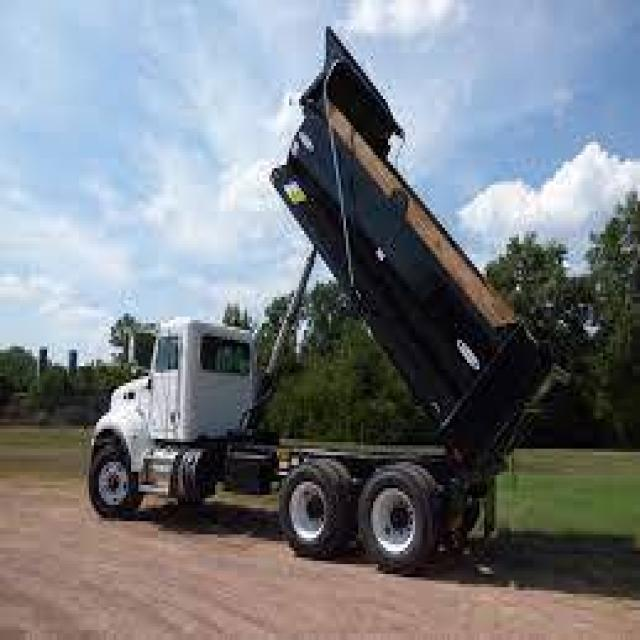dump_truck: (84, 22, 556, 582)
